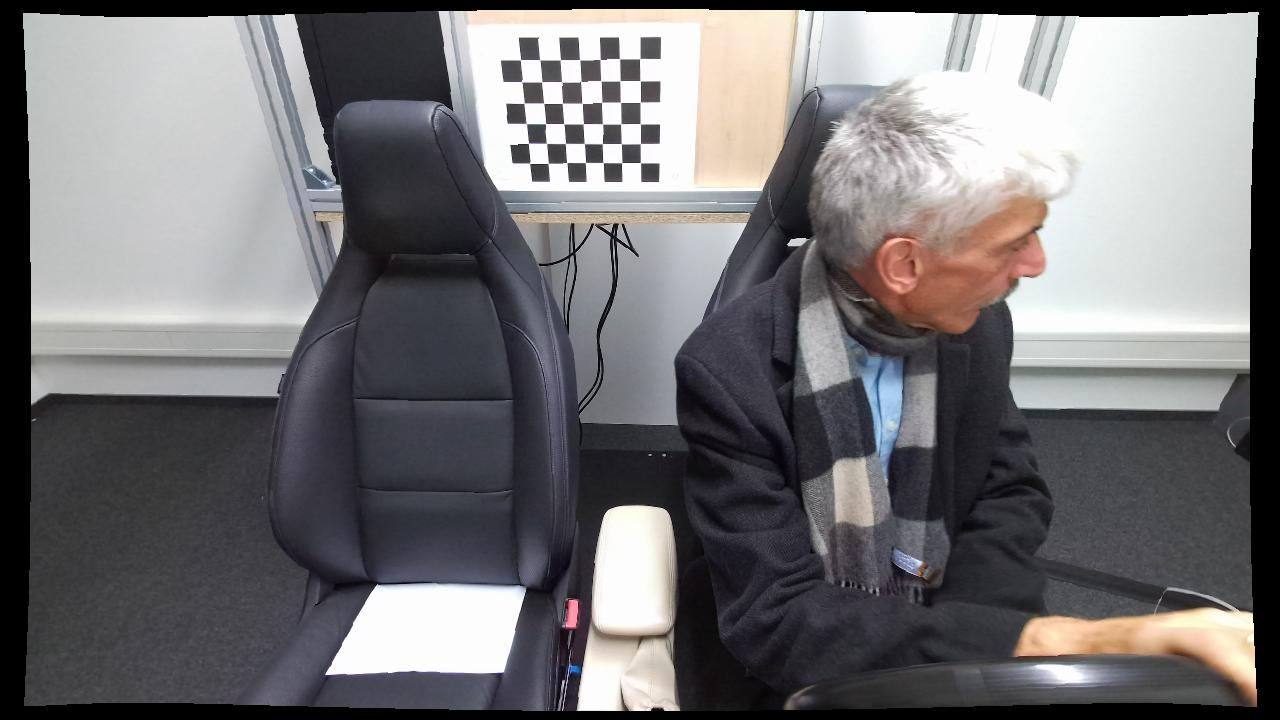Distracted: (669, 73, 1113, 708)
